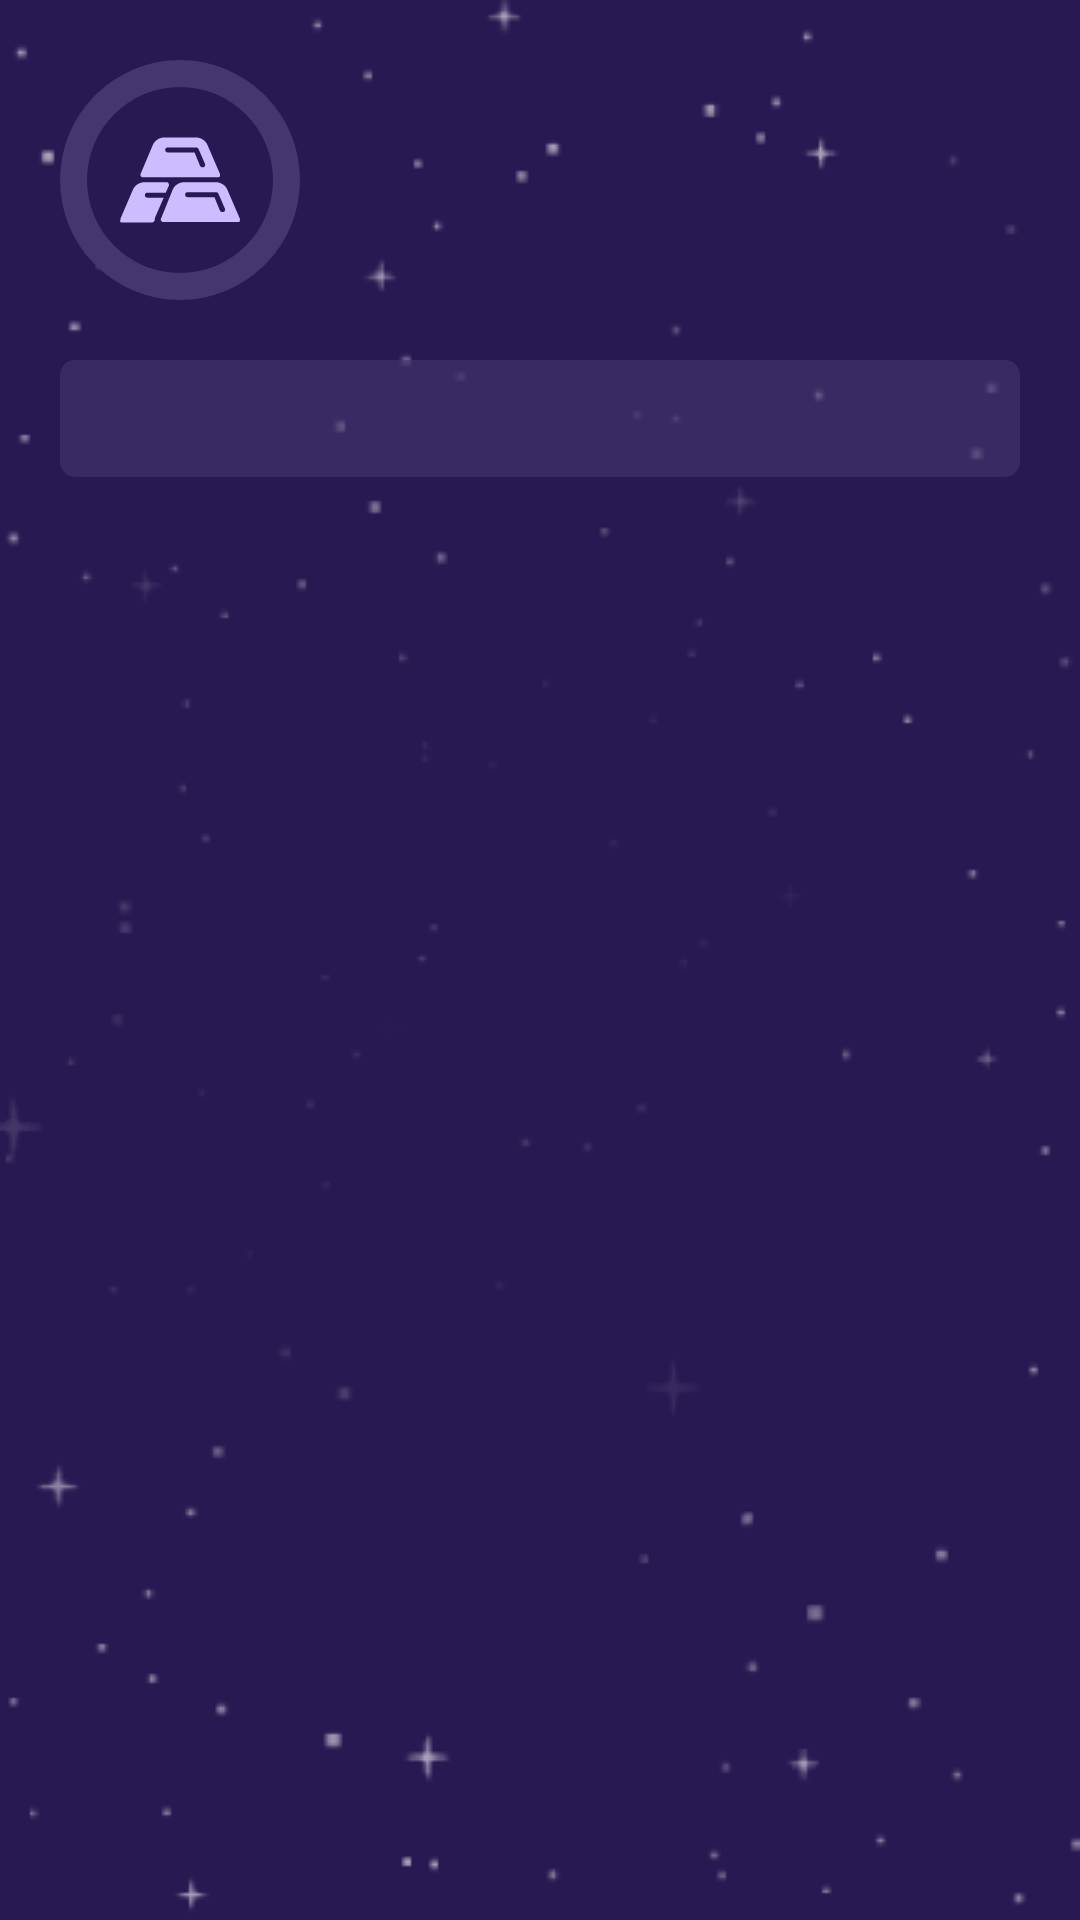

Icon bounding boxes for this 1080w x 1920h phone screenshot, format (x1, y1, x2, y2):
metal: (120, 137, 240, 223)
